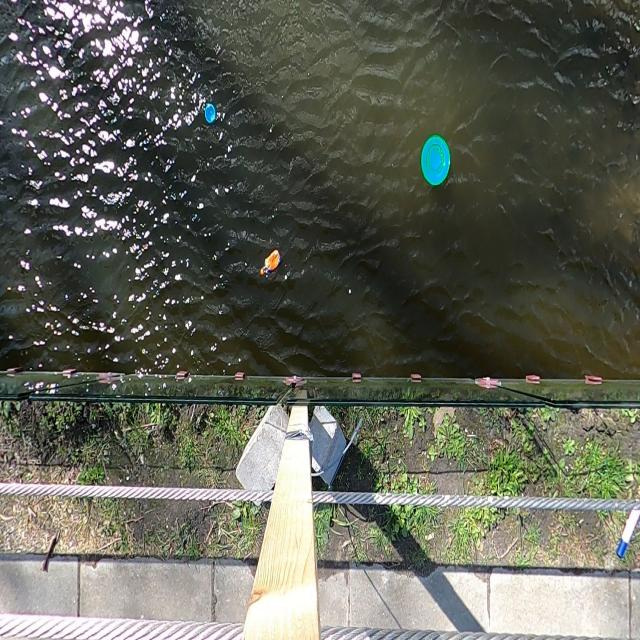Autre plastique: (414, 126, 453, 192), (202, 101, 216, 128)
Bouteille plastique: (258, 246, 283, 277)
